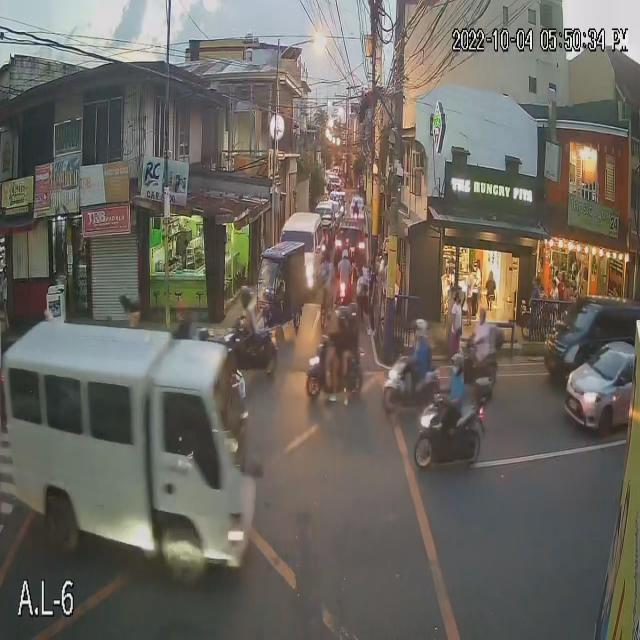helmet: (407, 315, 438, 340), (327, 306, 350, 337), (236, 281, 256, 311), (471, 304, 492, 330), (346, 302, 364, 328), (448, 349, 464, 377), (338, 245, 351, 265)
motorcycle: (410, 392, 491, 474), (379, 351, 447, 410), (225, 319, 286, 382), (310, 335, 366, 396), (450, 345, 504, 391), (334, 279, 354, 318)
rider: (436, 351, 472, 423), (407, 313, 437, 378), (234, 278, 261, 342), (469, 299, 499, 351), (324, 302, 349, 357), (342, 299, 368, 347), (334, 247, 356, 289)
